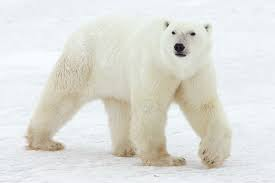PolarBear: (23, 10, 230, 168)
